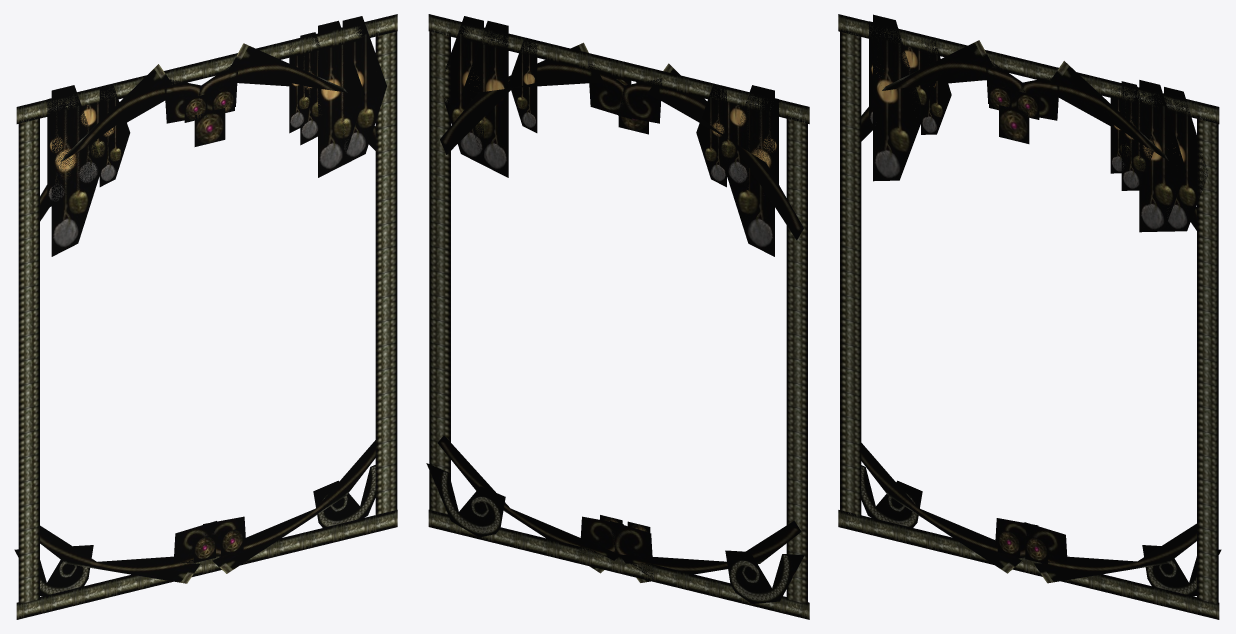
Rendered from gui_treasure_window_b.fbx.
3 views of the same model, side by side, from view 1: azimuth 30°, elevation 25°; view 2: azimuth 150°, elevation 25°; view 3: azimuth 330°, elevation 25° (orthographic).
Visible parts, largest first — view 1: pPlane89, pPlane94, pPlane87, pPlane100, pPlane99, pPlane95, pPlane140, pPlane88, pPlane91, pPlane90, pPlane82, pPlane106 (+55 smaller); view 2: pPlane94, pPlane89, pPlane95, pPlane140, pPlane87, pPlane82, pPlane106, pPlane91, pPlane90, pPlane100, pPlane99, pPlane92 (+43 smaller); view 3: pPlane89, pPlane94, pPlane87, pPlane100, pPlane99, pPlane140, pPlane95, pPlane93, pPlane106, pPlane82, pPlane90, pPlane92 (+57 smaller).
Part boxes in pixels (left/top/right/bottom): pPlane89: left=51, top=85, right=102, bottom=256; pPlane94: left=318, top=20, right=364, bottom=177; pPlane87: left=342, top=16, right=386, bottom=165; pPlane100: left=40, top=525, right=200, bottom=583; pPlane99: left=212, top=440, right=375, bottom=573; pPlane95: left=229, top=43, right=375, bottom=150; pPlane140: left=40, top=64, right=171, bottom=221; pPlane88: left=47, top=97, right=79, bottom=208; pPlane91: left=77, top=100, right=114, bottom=190; pPlane90: left=99, top=84, right=130, bottom=186; pPlane82: left=313, top=465, right=375, bottom=527; pPlane106: left=14, top=545, right=93, bottom=596; pPlane94: left=461, top=21, right=508, bottom=177; pPlane89: left=727, top=85, right=774, bottom=256; pPlane95: left=440, top=42, right=603, bottom=154; pPlane140: left=648, top=63, right=803, bottom=240; pPlane87: left=443, top=16, right=483, bottom=165; pPlane82: left=426, top=463, right=505, bottom=537; pPlane106: left=725, top=550, right=804, bottom=603; pPlane91: left=710, top=99, right=748, bottom=190; pPlane90: left=696, top=84, right=726, bottom=187; pPlane100: left=619, top=520, right=801, bottom=582; pPlane99: left=437, top=435, right=619, bottom=573; pPlane92: left=508, top=38, right=537, bottom=132; pPlane89: left=873, top=14, right=924, bottom=181; pPlane94: left=1139, top=80, right=1186, bottom=232; pPlane87: left=1164, top=87, right=1207, bottom=231; pPlane100: left=861, top=443, right=1021, bottom=573; pPlane99: left=1034, top=523, right=1196, bottom=583; pPlane140: left=861, top=40, right=993, bottom=141; pPlane95: left=1050, top=61, right=1196, bottom=230; pPlane93: left=1121, top=81, right=1154, bottom=190; pPlane106: left=861, top=465, right=922, bottom=527; pPlane82: left=1142, top=545, right=1221, bottom=596; pPlane90: left=921, top=36, right=951, bottom=134; pPlane92: left=1110, top=81, right=1136, bottom=173.
Size of the model in its own units: 343 by 453 by 19.32.
1 material, 1 textured.
